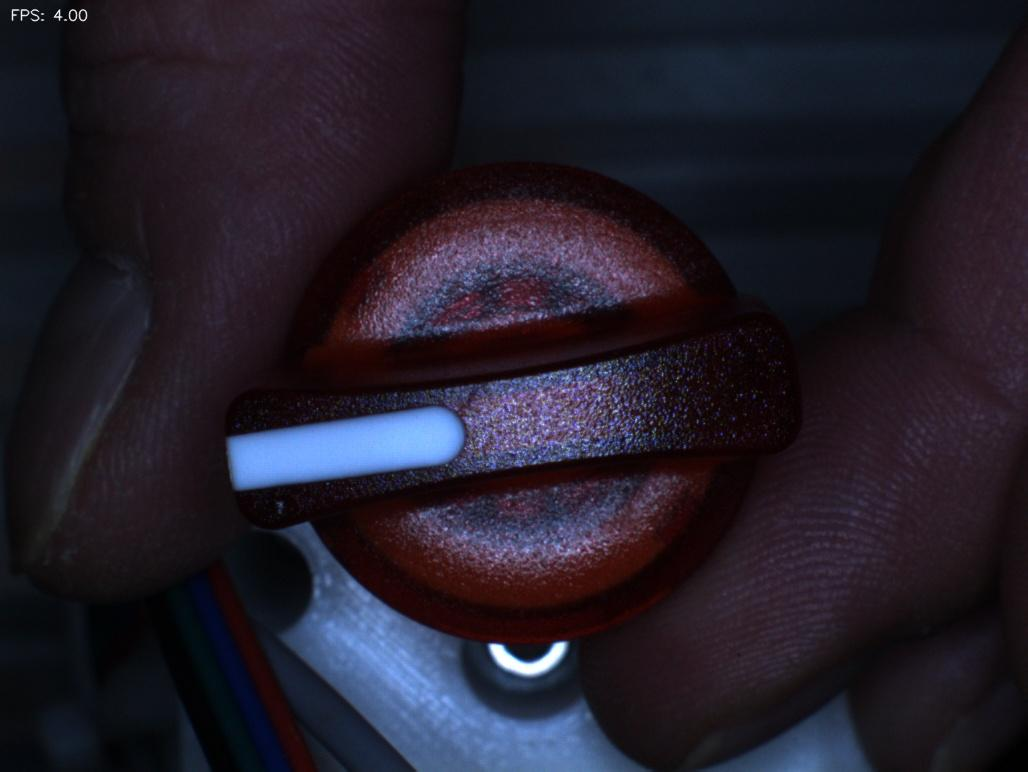Choc: (238, 476, 329, 556)
